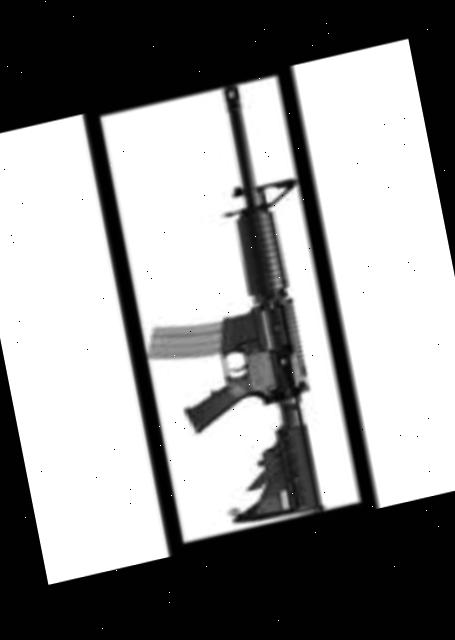rifle: (103, 72, 352, 546)
